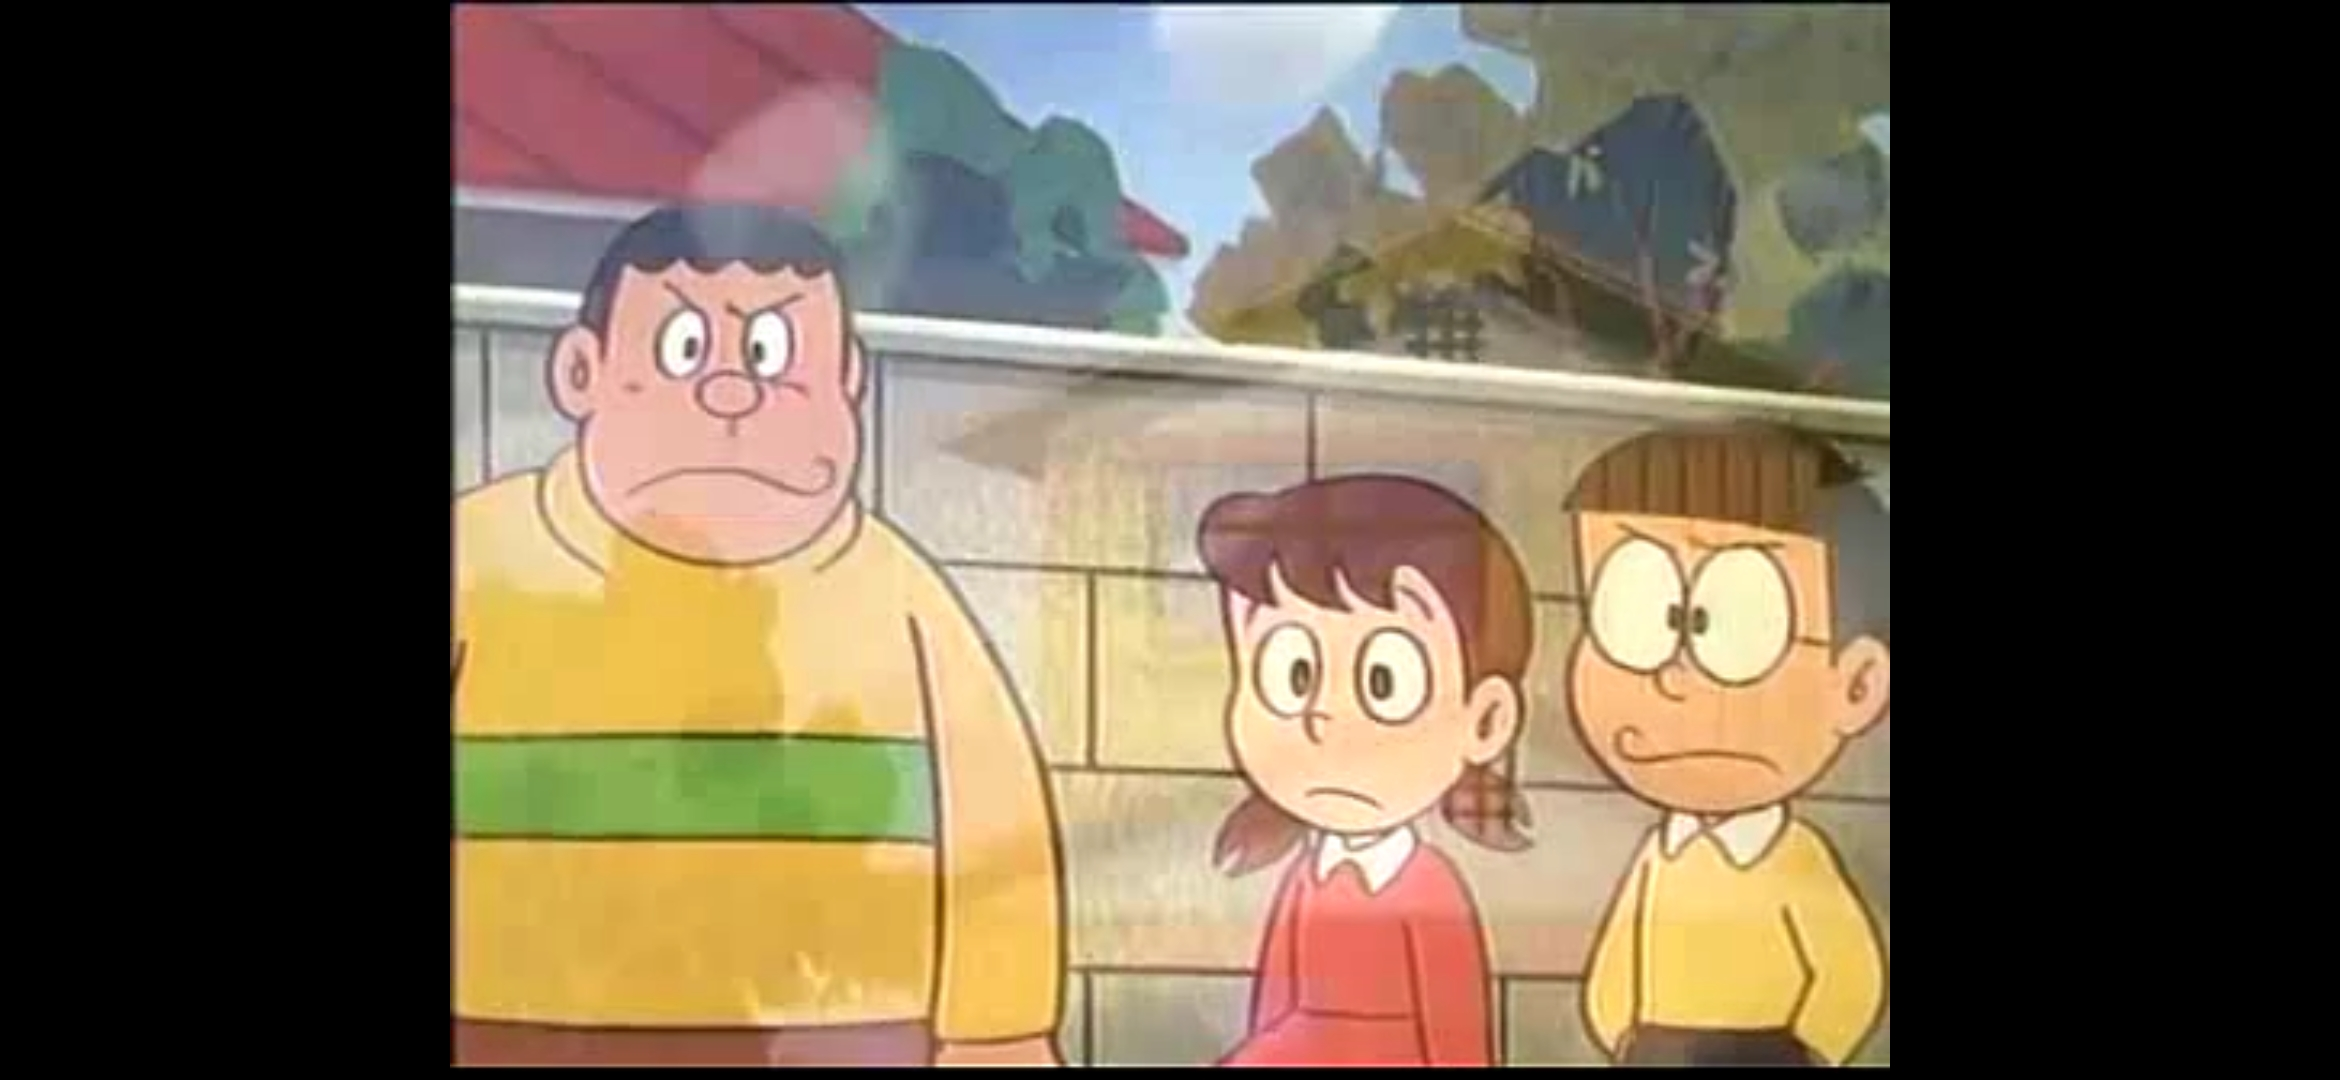Nobi: (1561, 421, 1885, 811)
Shizuka: (1195, 473, 1531, 831)
Takeshi: (545, 200, 860, 562)
